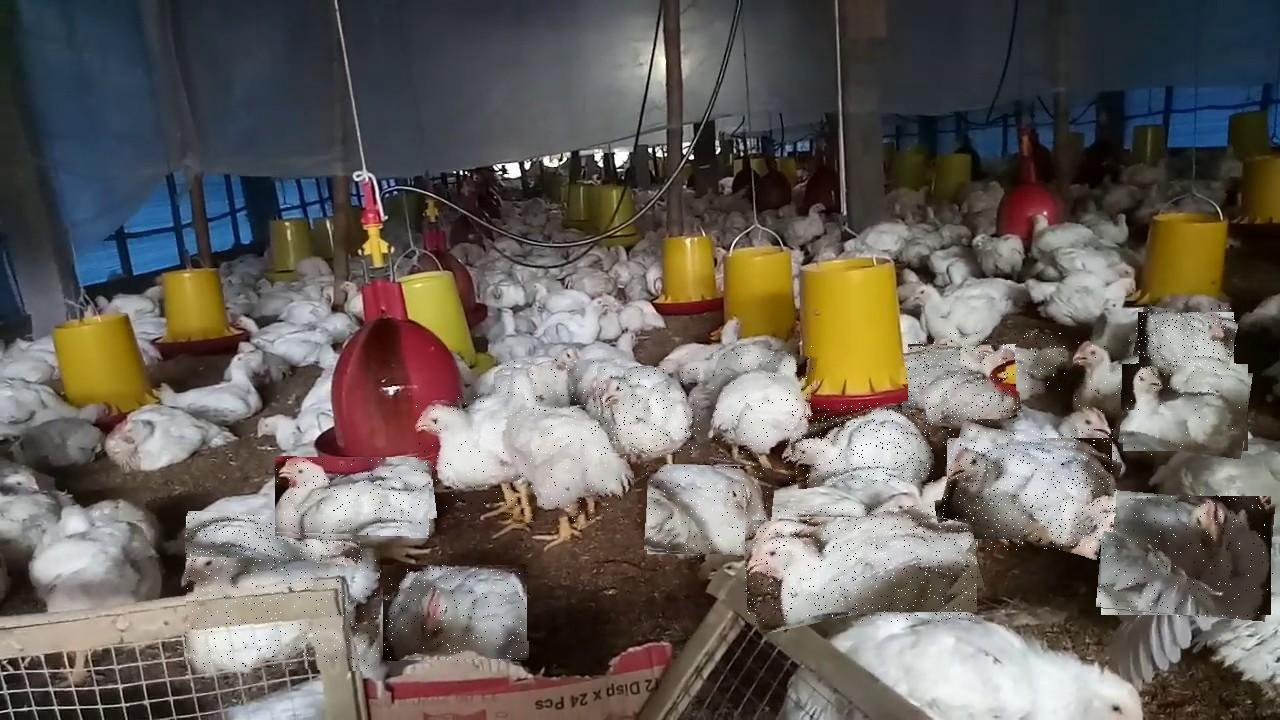chicken: (746, 506, 982, 623), (185, 550, 379, 669), (1099, 493, 1273, 619), (499, 359, 634, 521), (942, 430, 1117, 551), (415, 394, 535, 516), (384, 565, 529, 661), (276, 458, 431, 538), (1121, 360, 1251, 455), (714, 346, 814, 469), (646, 465, 774, 558), (790, 404, 934, 485), (906, 340, 1020, 423), (595, 367, 700, 457), (1074, 340, 1201, 411), (186, 513, 361, 562), (948, 333, 1066, 392), (1136, 309, 1236, 371)
